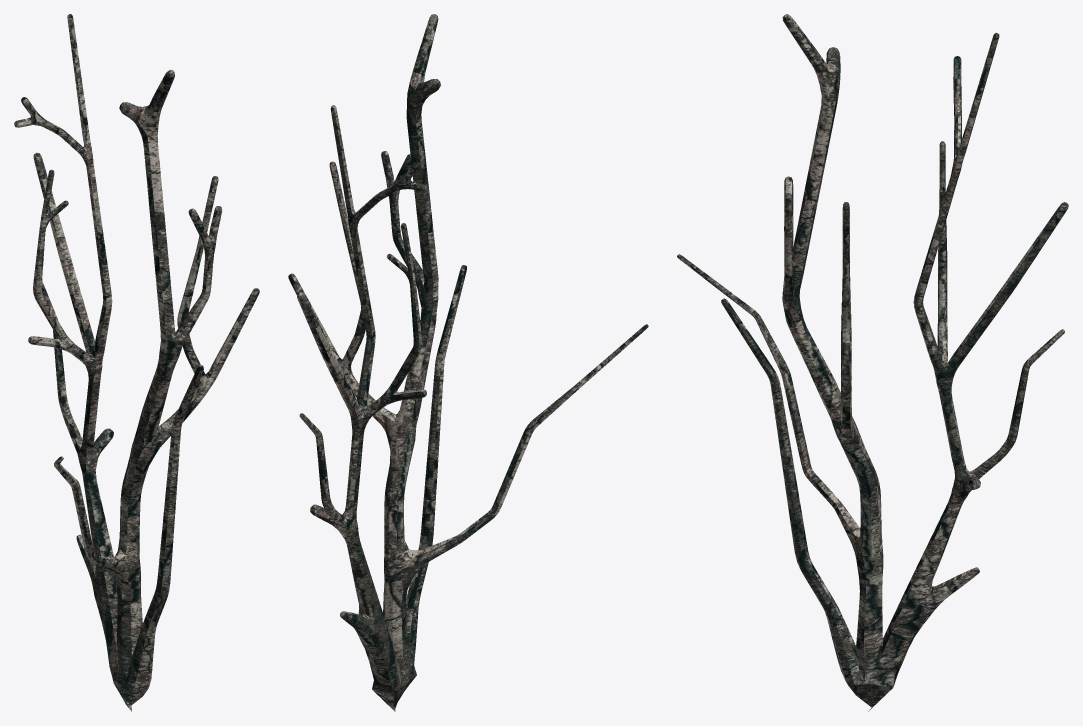
The model's file is dead_shrub.fbx.
The picture shows the model from 3 angles, left to right: view 1: azimuth 30°, elevation 25°; view 2: azimuth 150°, elevation 25°; view 3: azimuth 270°, elevation 25°; orthographic projection. The views are drawn at different scales.
Parts seen in each view (by area): view 1: Cube; view 2: Cube; view 3: Cube.
Part boxes in pixels (x1,y1,x2,y2): Cube: [14, 14, 259, 711]; Cube: [288, 14, 648, 711]; Cube: [677, 14, 1068, 711].
Size of the model in its own units: 46.01 by 105 by 53.63.
1 material, 1 textured.
